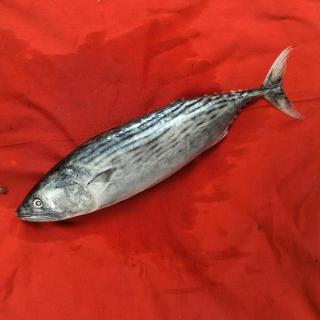Ikan: (13, 74, 279, 232)
